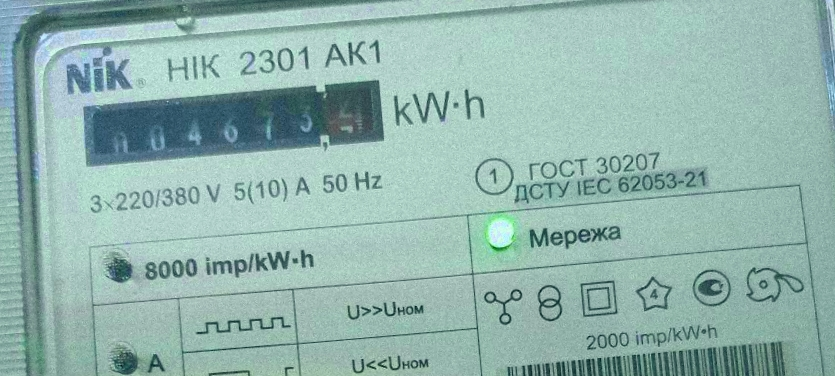0: (108, 126, 131, 157), (146, 120, 167, 153)
2: (333, 88, 356, 121)
3: (295, 100, 315, 136)
4: (184, 113, 205, 150)
6: (217, 110, 241, 146)
7: (255, 106, 280, 145)
screen: (76, 74, 390, 177)
